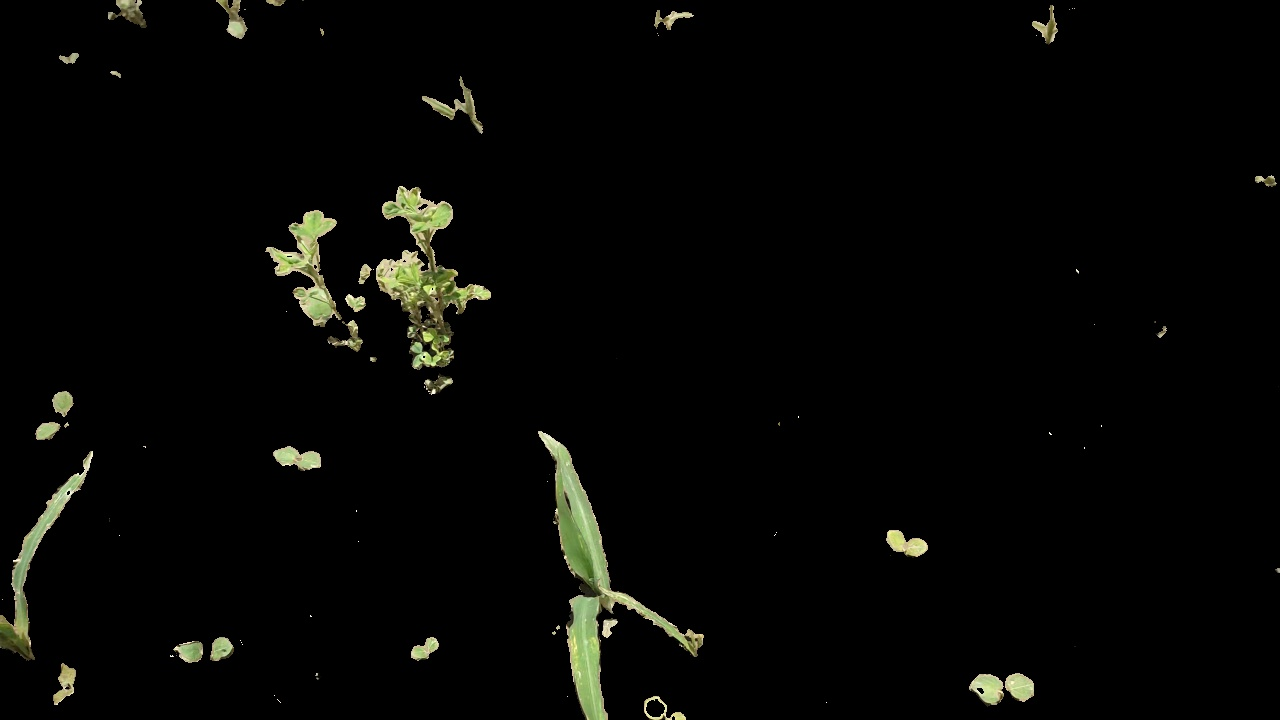crop: (535, 431, 709, 673), (1, 450, 105, 657)
weed: (377, 172, 496, 396), (263, 187, 372, 361), (408, 76, 494, 132), (957, 663, 1039, 705), (30, 379, 79, 449), (168, 630, 246, 667), (270, 444, 325, 477), (883, 521, 933, 557), (638, 691, 695, 720), (404, 631, 446, 660), (51, 662, 78, 707), (57, 44, 83, 65)
